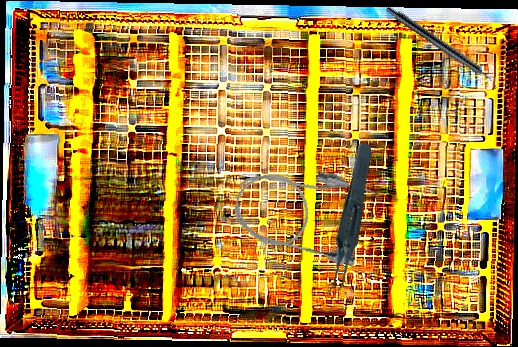Cannula: (227, 153, 381, 270)
Handpiece: (383, 4, 502, 90)
Tissue Forceps: (291, 139, 404, 303)
